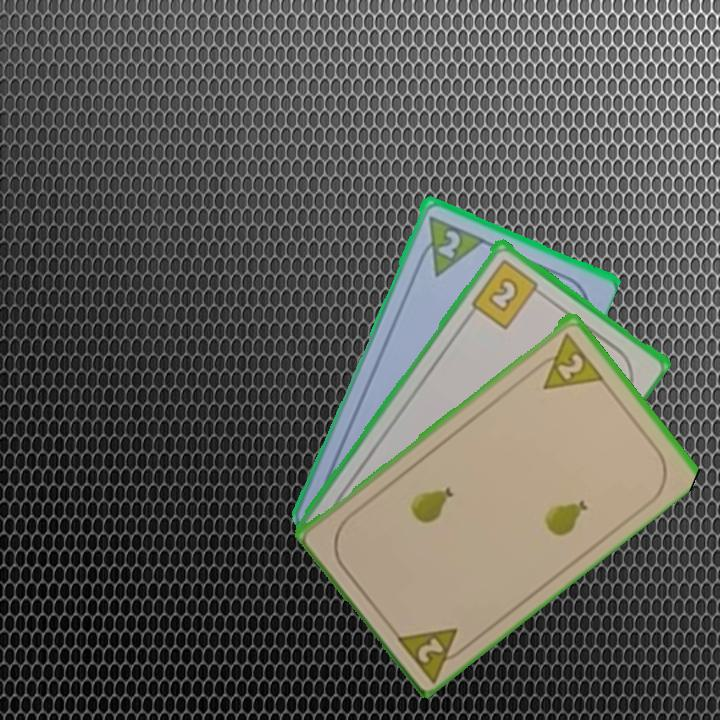2b: (467, 255, 548, 331)
2p: (391, 623, 474, 683), (412, 211, 485, 279), (529, 328, 606, 392)
